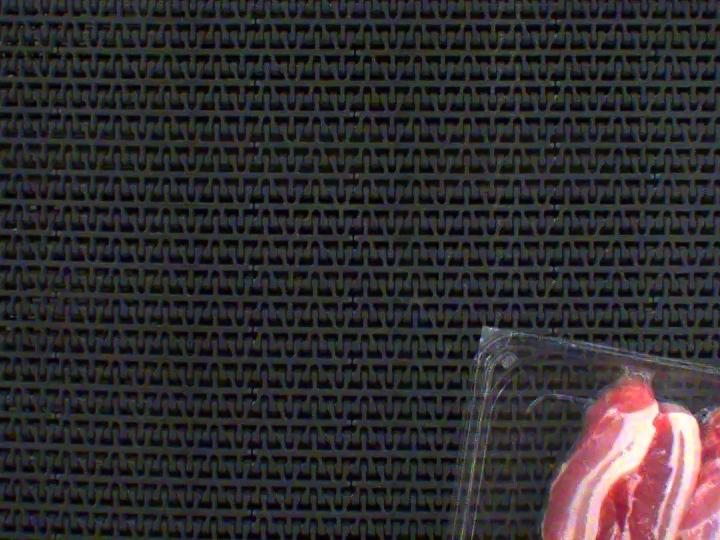packaging-error: (611, 354, 682, 399)
